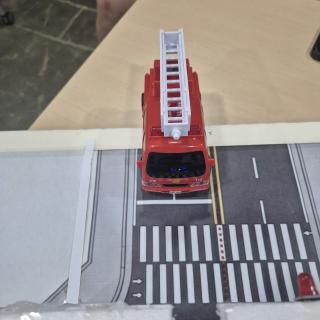Fire_truck: (137, 29, 215, 194)
